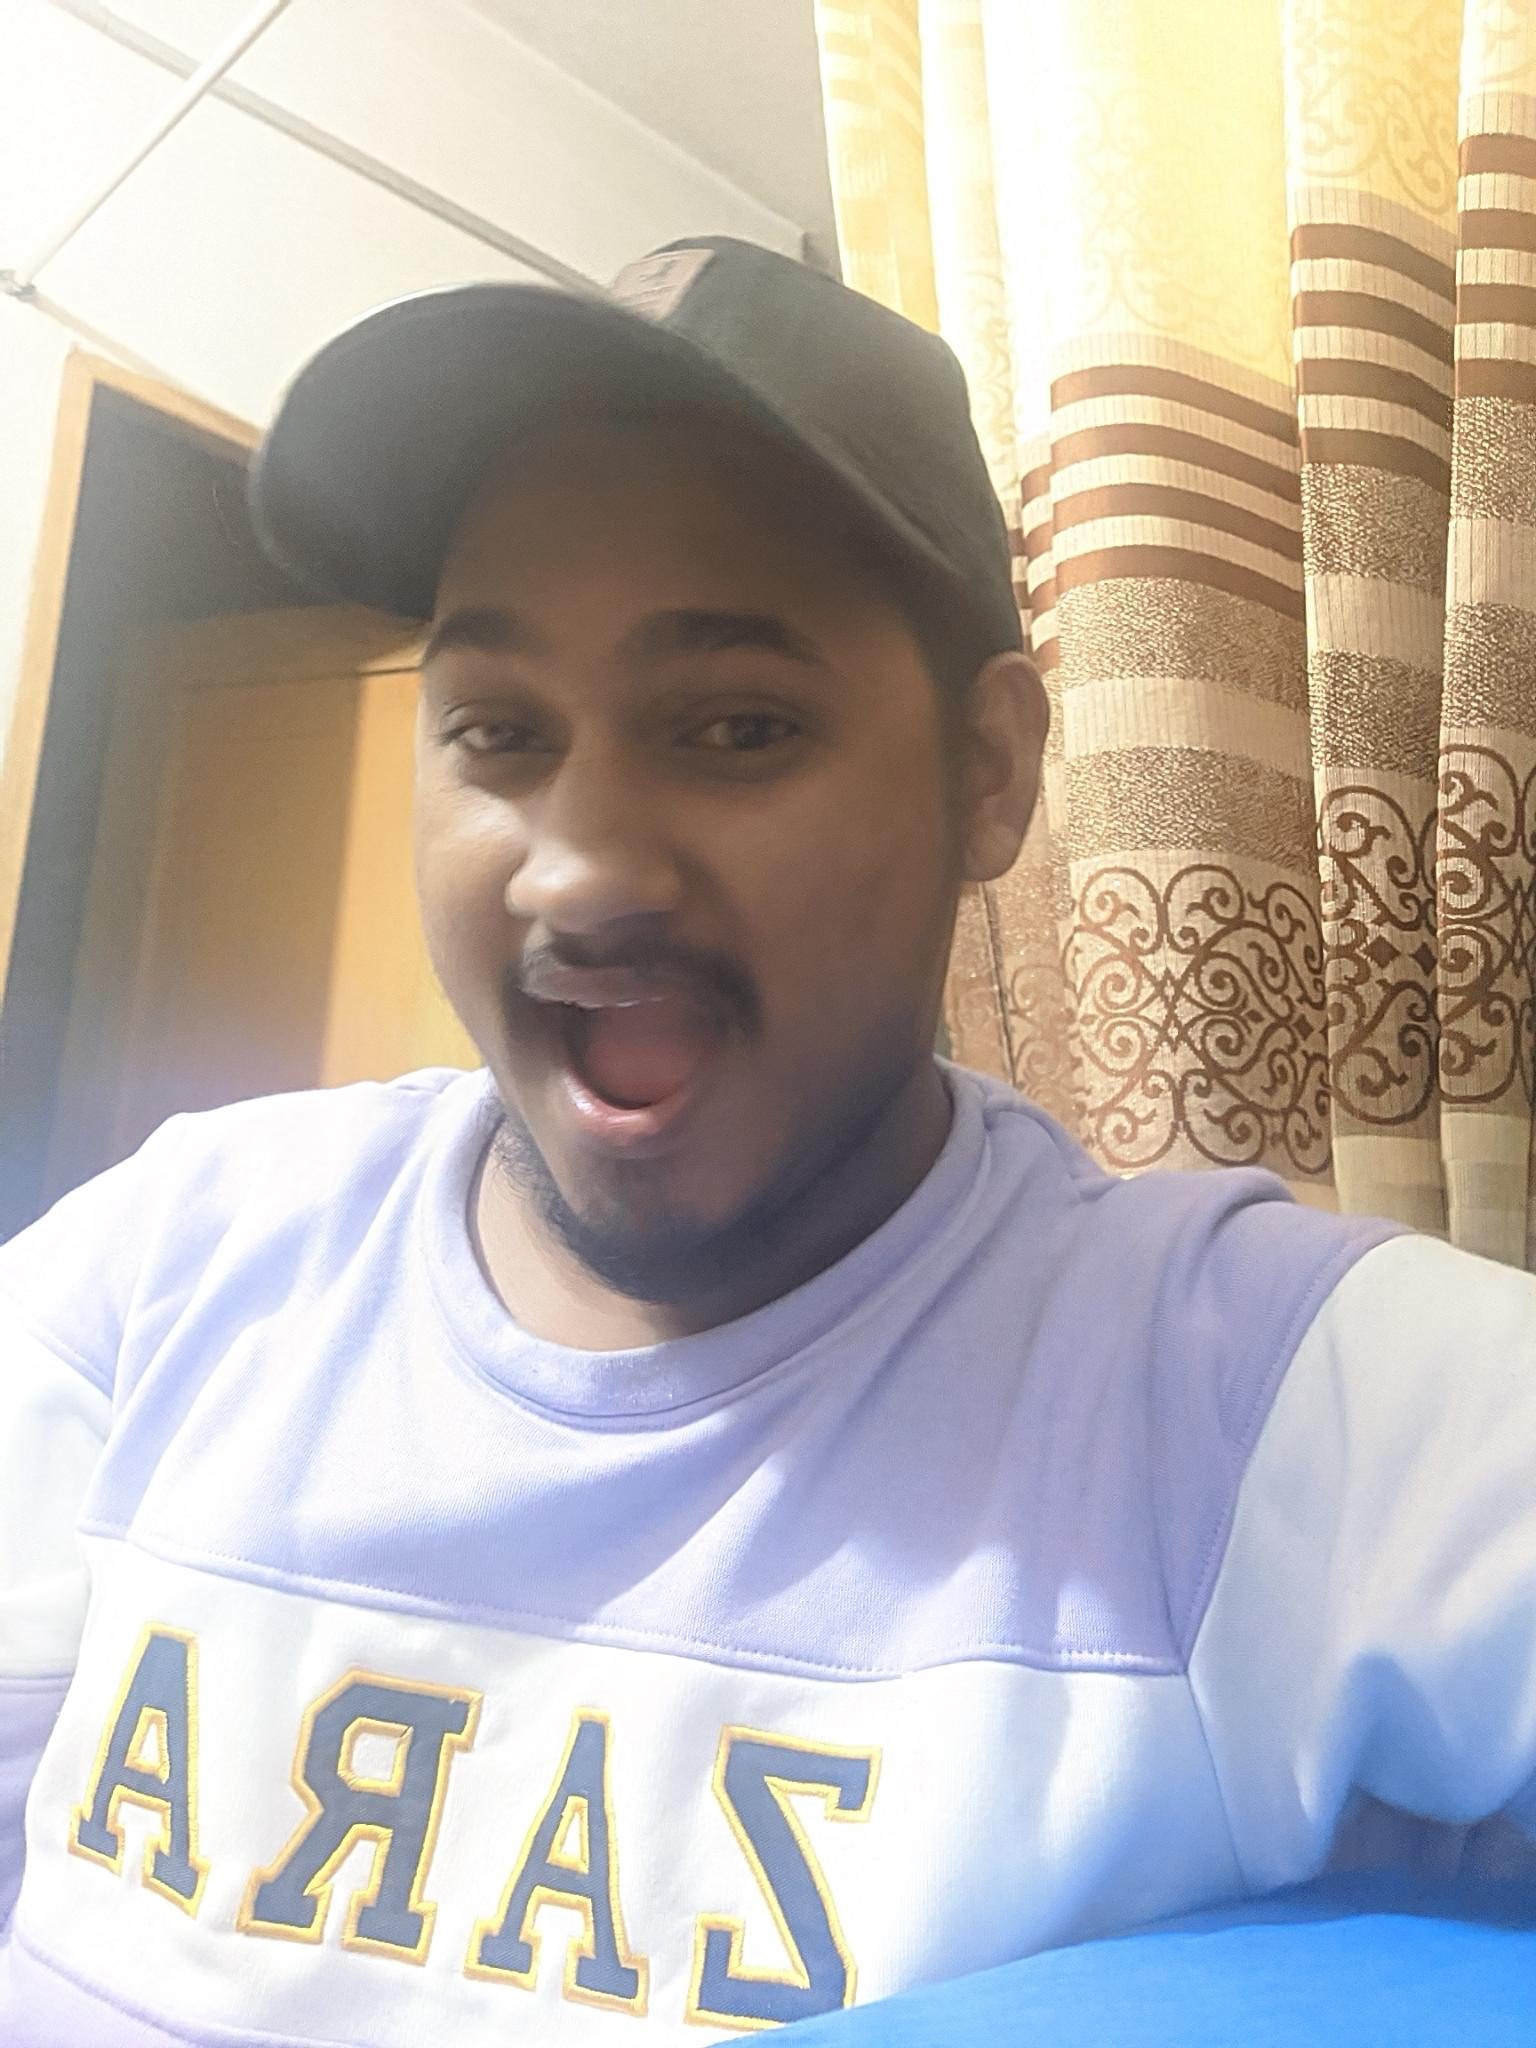Surprise: (355, 492, 952, 1293)
